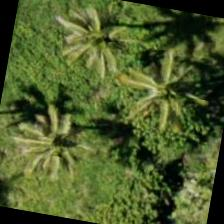Kelapa_Sawit: (0, 81, 104, 185), (117, 40, 220, 144), (44, 0, 148, 89)
